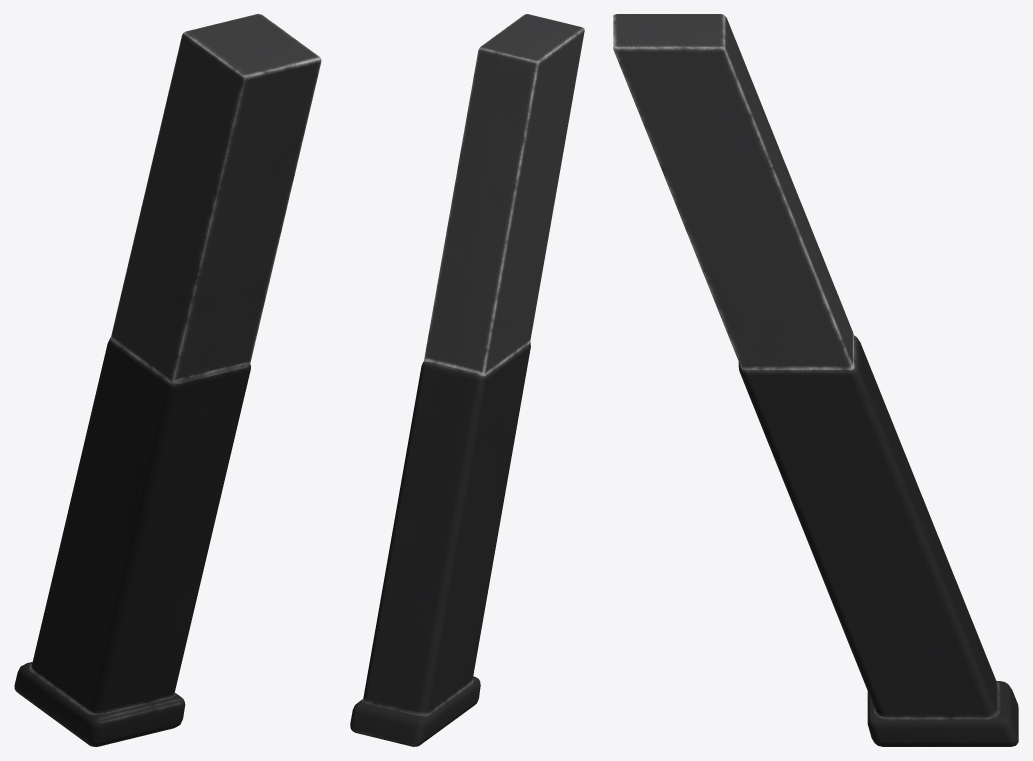
File: mag_p9_33.glb
3 renders of one model, left to right at view 1: azimuth 30°, elevation 25°; view 2: azimuth 150°, elevation 25°; view 3: azimuth 270°, elevation 25°, orthographic. The views are drawn at different scales.
Visible parts, largest first — view 1: body; view 2: body; view 3: body.
Part boxes in pixels (<box>): body: <box>14,14,321,746</box>; body: <box>350,14,584,746</box>; body: <box>613,14,1018,746</box>.
Size of the model in its own units: 0.026 by 0.204 by 0.1071.
1 material, 1 textured.
